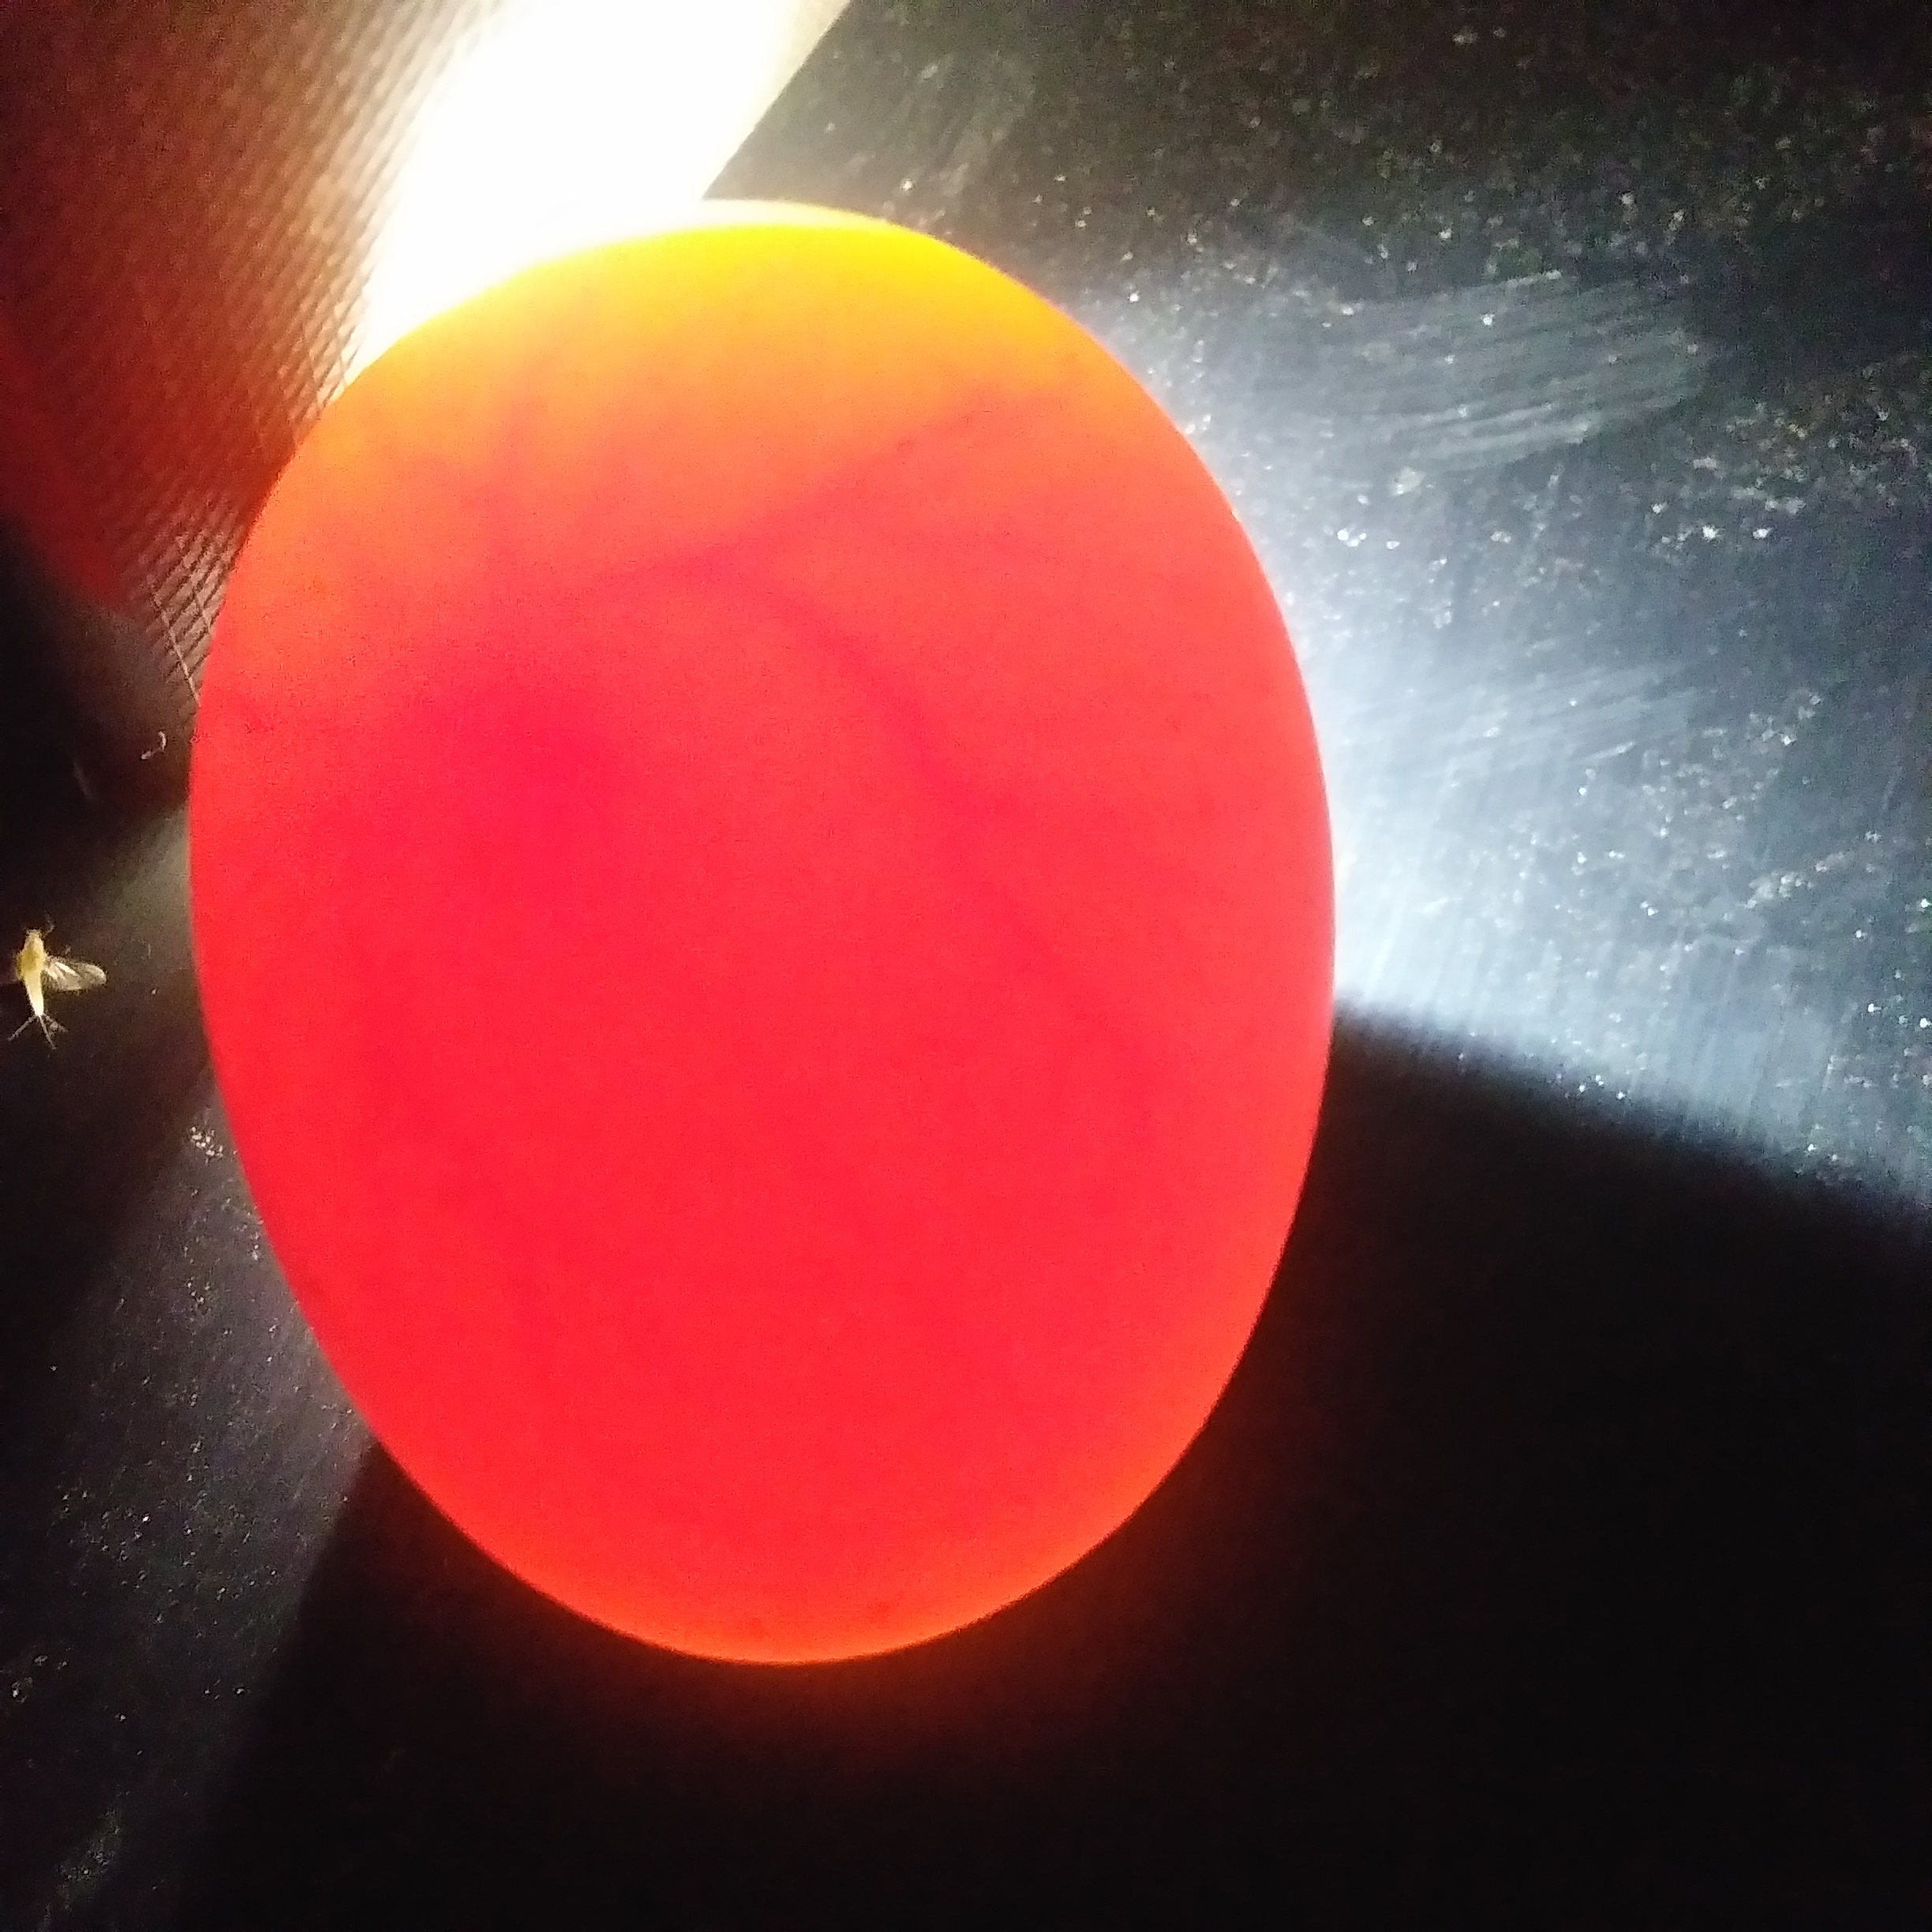bloodcell: (619, 340, 1063, 1106)
